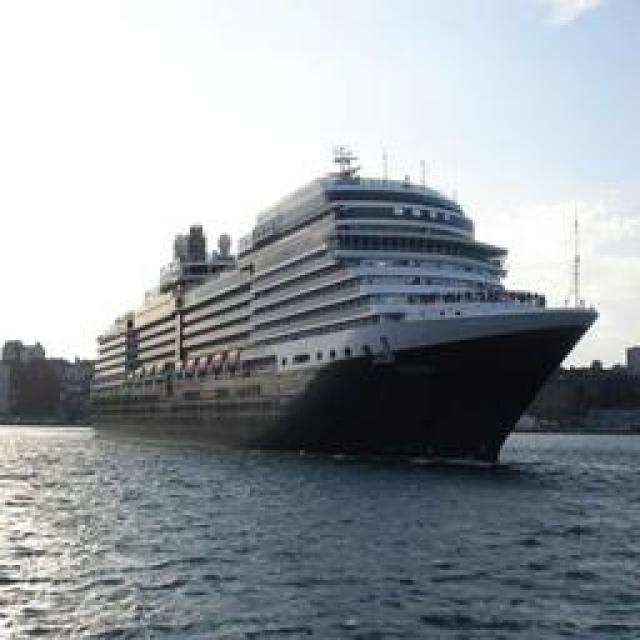CIV_Ship: (80, 154, 605, 458)
